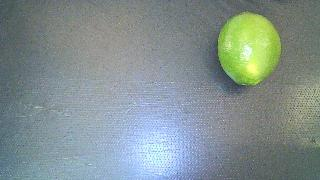EXPORTACION: (217, 12, 281, 86)
